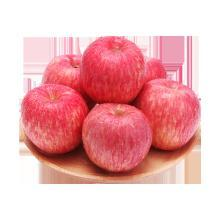apple: (82, 102, 151, 173), (19, 86, 89, 155), (136, 78, 200, 151), (79, 36, 146, 104)
